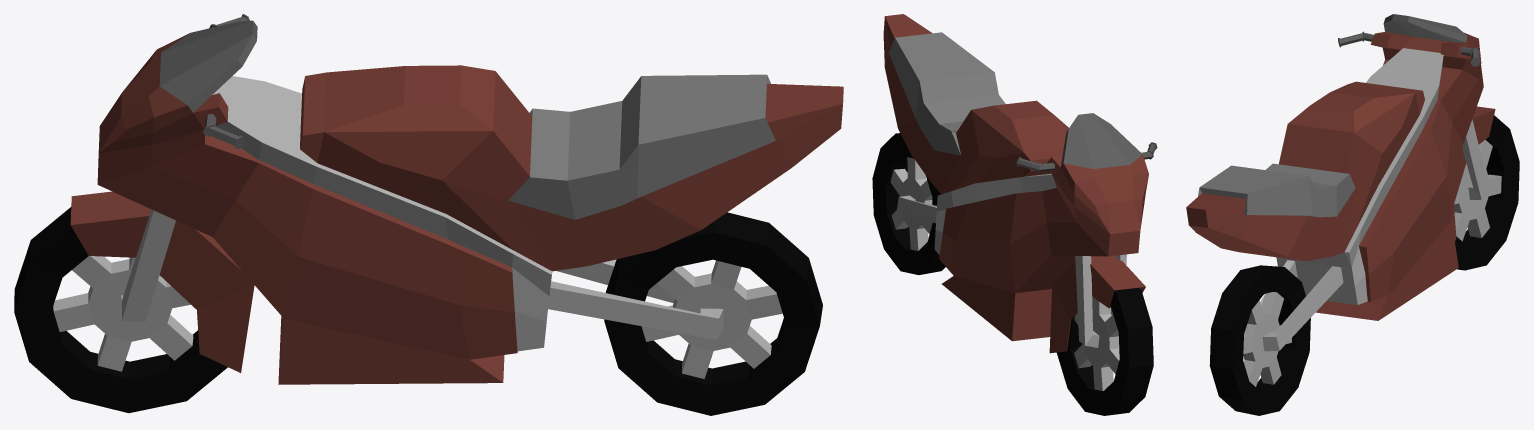
File: Motorcycle Red.fbx
The picture shows the model from 3 angles, left to right: view 1: azimuth 30°, elevation 25°; view 2: azimuth 150°, elevation 25°; view 3: azimuth 270°, elevation 25°; orthographic projection. The views are drawn at different scales.
Parts seen in each view (by area): view 1: Motorcycle Red; view 2: Motorcycle Red; view 3: Motorcycle Red.
Part boxes in pixels (x1,y1,x2,y2): Motorcycle Red: (14, 14, 843, 415); Motorcycle Red: (872, 14, 1157, 415); Motorcycle Red: (1186, 14, 1519, 415).
Bounding box in the file's own units: 255 × 173 × 157.
